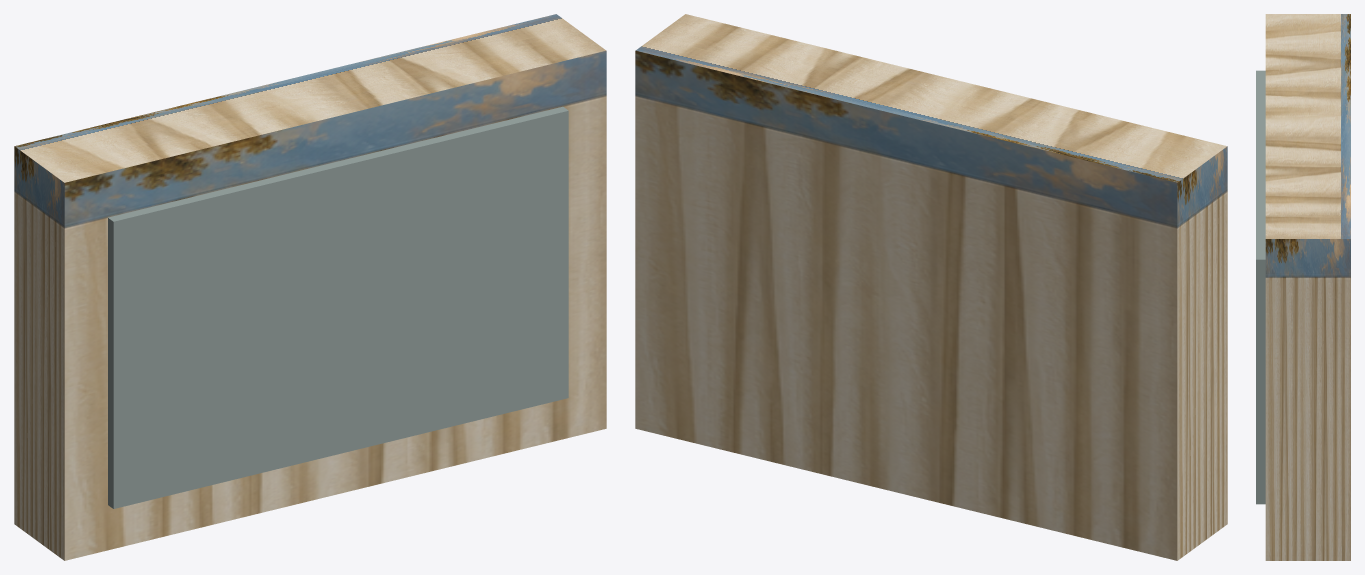
Rendered from small-mirror.gltf.
The picture shows the model from 3 angles, left to right: view 1: azimuth 30°, elevation 25°; view 2: azimuth 150°, elevation 25°; view 3: azimuth 270°, elevation 25°; orthographic projection. The views are drawn at different scales.
Visible parts, largest first — view 1: kit:0:furniture:mirror:, kit:0:furniture:gold:; view 2: kit:0:furniture:gold:; view 3: kit:0:furniture:gold:, kit:0:furniture:mirror:.
Boxes of the visible parts, x1=… form: kit:0:furniture:mirror:: x1=108, y1=106, x2=568, y2=508; kit:0:furniture:gold:: x1=14, y1=14, x2=606, y2=560; kit:0:furniture:gold:: x1=635, y1=14, x2=1227, y2=560; kit:0:furniture:gold:: x1=1265, y1=14, x2=1350, y2=560; kit:0:furniture:mirror:: x1=1256, y1=70, x2=1265, y2=504.
Bounding box in the file's own units: 0.75 × 0.5 × 0.1335.
Materials: 2 (1 with a texture image).
